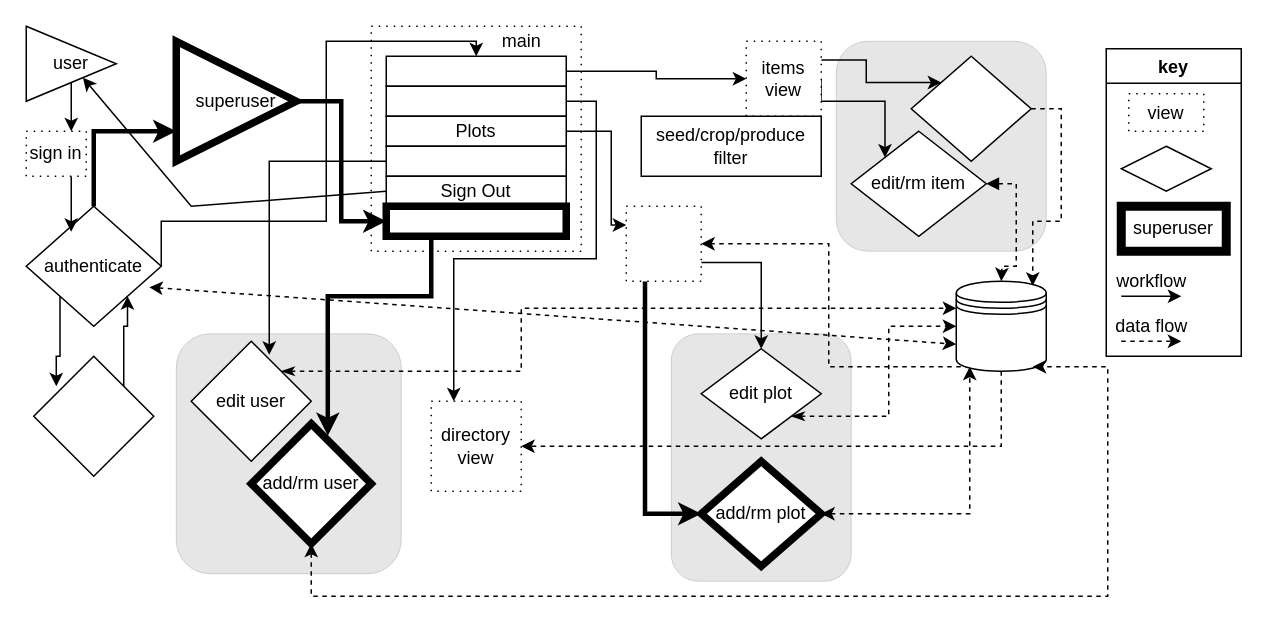
This 1268x636 diagram has some shape labels left out. The shapes that lost their labels are listed below. From the top down, each one's centre as x and y in pixels, then its label:
(x=475, y=70): Farm Inventory
(x=475, y=100): Directory
(x=970, y=108): add item
(x=475, y=160): Options
(x=1165, y=168): action
(x=475, y=220): user management
(x=663, y=243): plots view
(x=1000, y=325): db
(x=93, y=415): register
